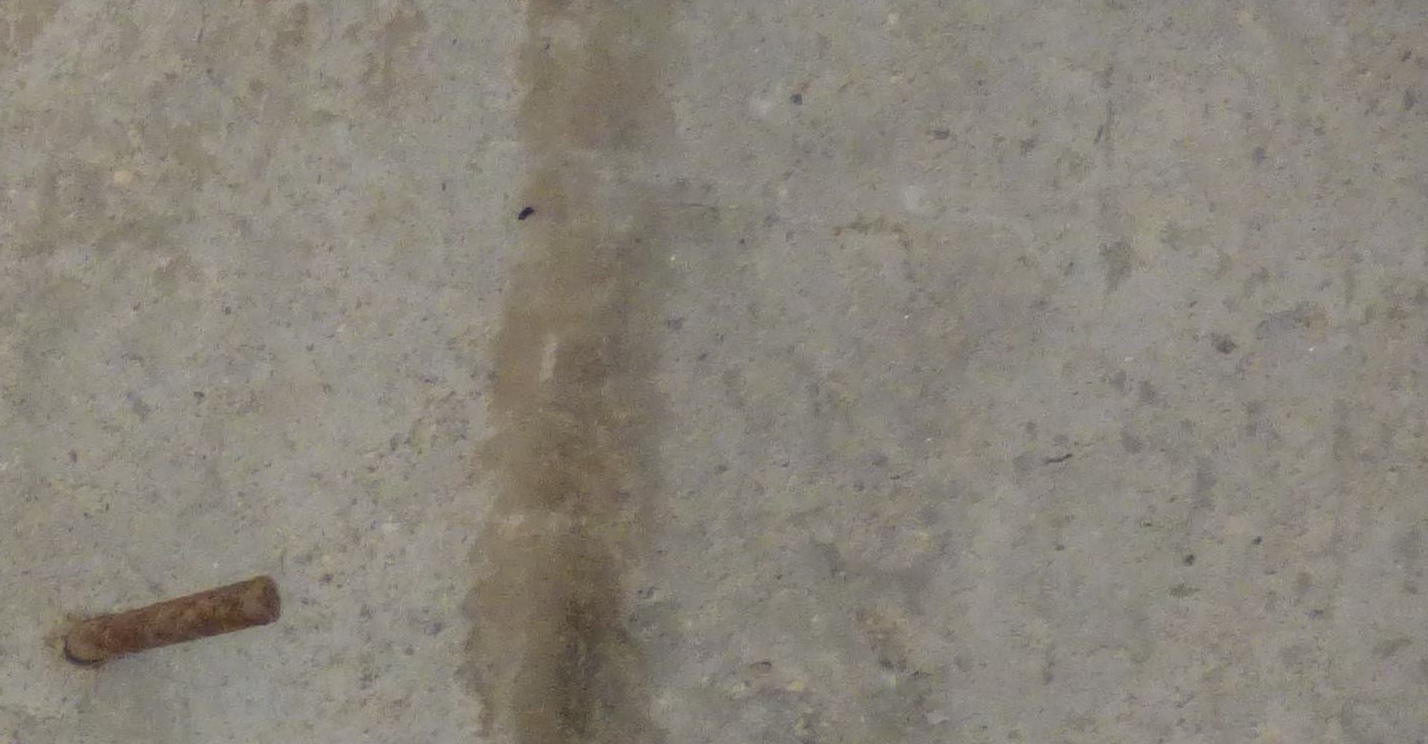Corrosion: (455, 1, 692, 744)
Exposed reinforcement: (64, 575, 281, 664)
